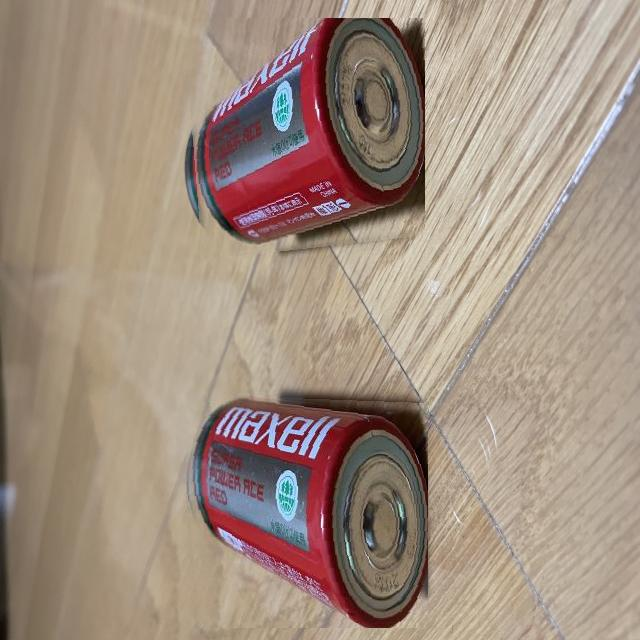battery: (183, 18, 425, 260), (181, 394, 428, 628)
